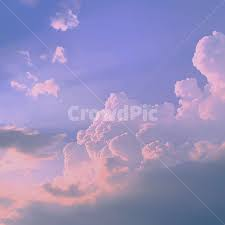sky: (3, 2, 223, 225)
